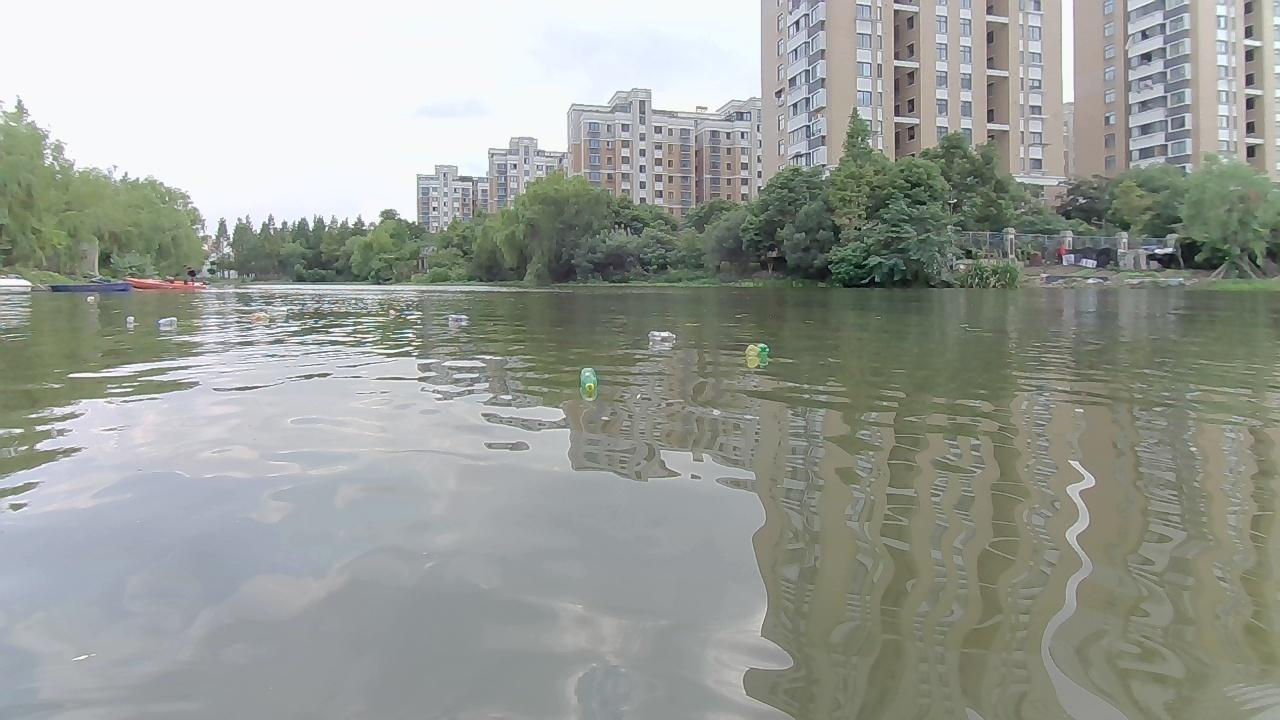bottle: (579, 362, 600, 404), (244, 309, 273, 328), (744, 339, 770, 360), (442, 310, 475, 325), (155, 314, 182, 326), (646, 331, 673, 342), (124, 312, 134, 328)
